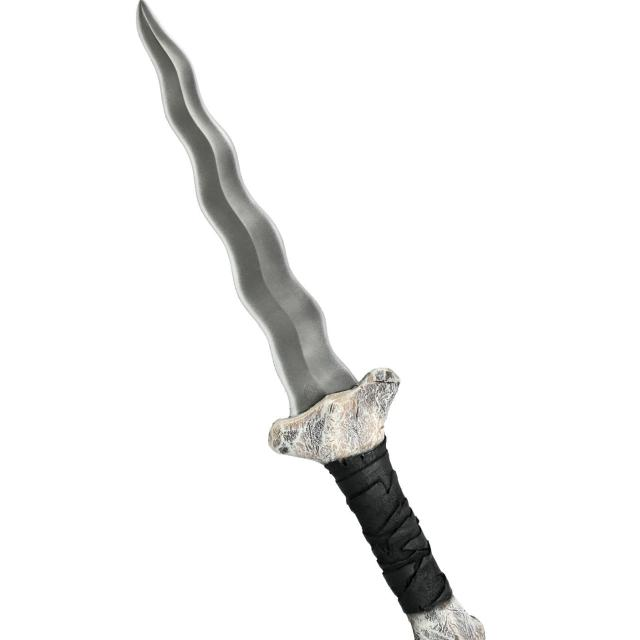Gun: (96, 0, 508, 640)
